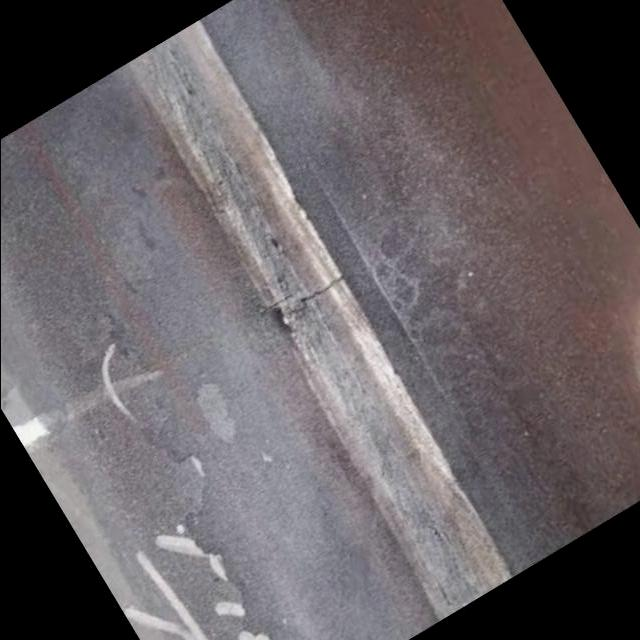defect: (286, 271, 349, 320)
